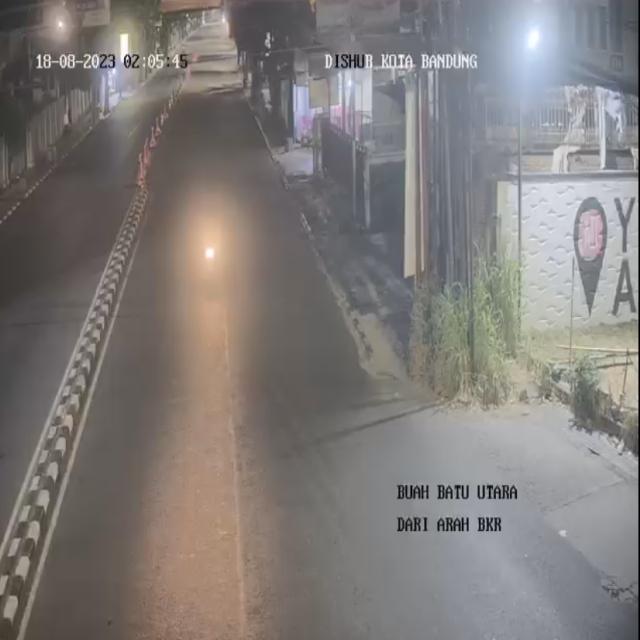motorcycle: (185, 188, 237, 309)
